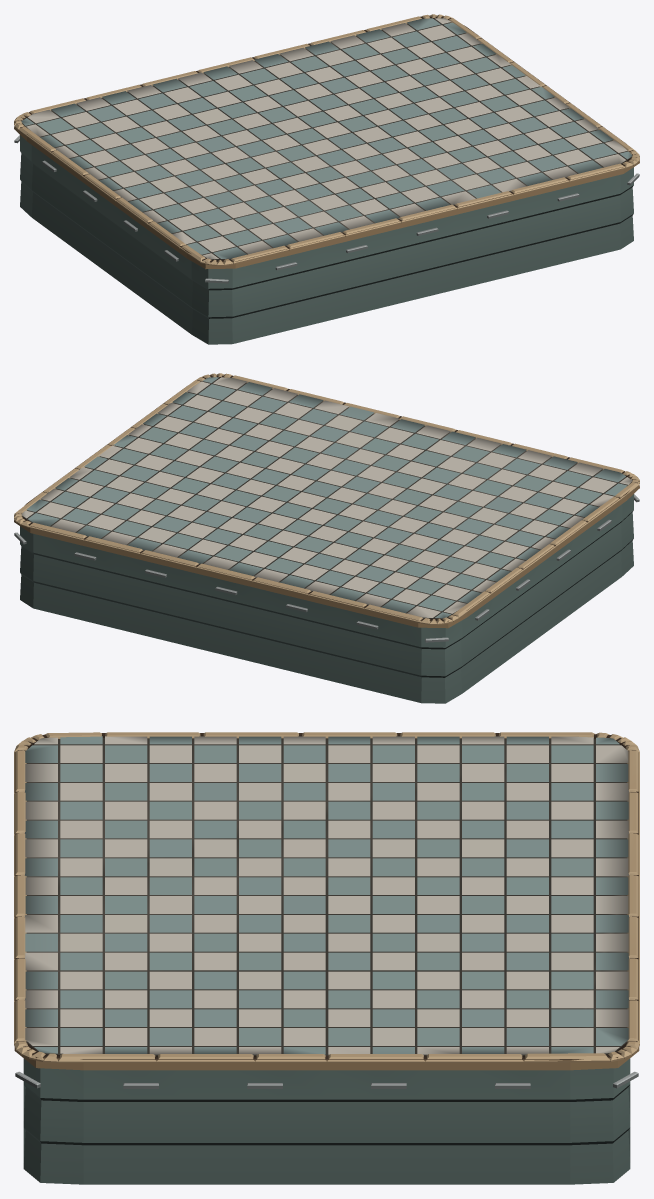
The model's file is plateau_cuisine.glb.
3 views of the same model, one above another, from view 1: azimuth 30°, elevation 25°; view 2: azimuth 150°, elevation 25°; view 3: azimuth 270°, elevation 25° (orthographic). The views are drawn at different scales.
Visible parts, largest first — view 1: plateau_cuisine; view 2: plateau_cuisine; view 3: plateau_cuisine.
Boxes of the visible parts, <box> form: plateau_cuisine: <box>14,14,639,344</box>; plateau_cuisine: <box>14,373,639,703</box>; plateau_cuisine: <box>14,732,639,1184</box>.
Bounding box in the file's own units: 26.04 × 4.94 × 21.04.
